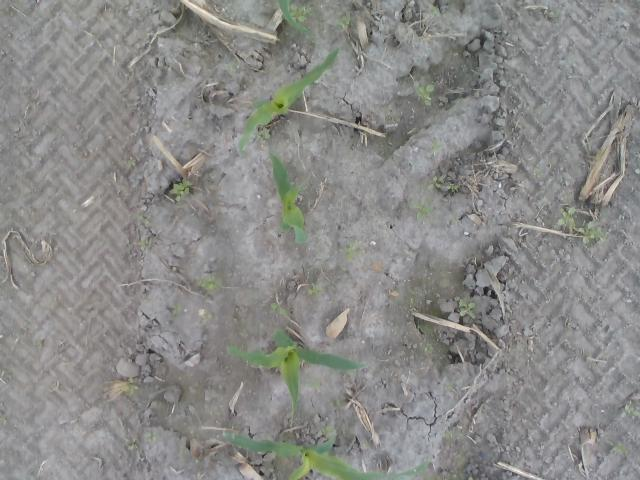Maize: (226, 330, 370, 432), (236, 48, 340, 154), (221, 430, 431, 480), (269, 154, 310, 244), (280, 1, 312, 39)
Weeds: (557, 206, 607, 244), (342, 242, 366, 264), (412, 199, 434, 221), (172, 181, 190, 203), (416, 84, 434, 106), (457, 301, 477, 320), (290, 5, 312, 22), (198, 276, 220, 292), (428, 176, 448, 191), (620, 404, 640, 418), (270, 304, 290, 317), (336, 15, 350, 30), (126, 378, 138, 394), (308, 284, 321, 298), (431, 139, 442, 154), (613, 445, 627, 456), (332, 401, 346, 410), (139, 238, 148, 252), (200, 313, 211, 323), (448, 182, 458, 192), (126, 160, 136, 170), (128, 440, 138, 450), (534, 167, 543, 178), (311, 382, 321, 391), (145, 432, 154, 440), (138, 216, 147, 223)
